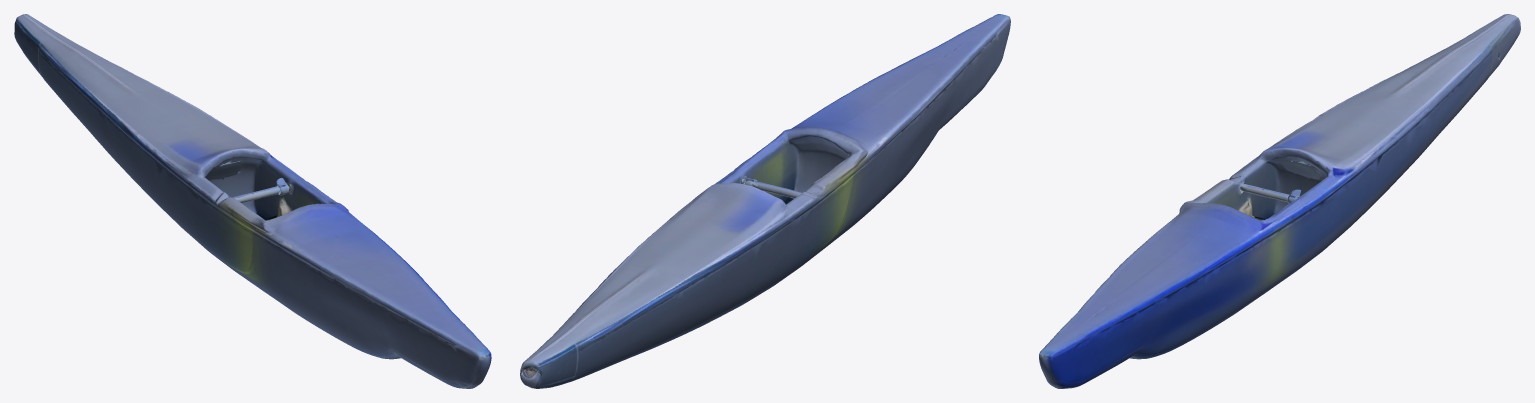
File: scull-blue.glb
The picture shows the model from 3 angles, left to right: view 1: azimuth 30°, elevation 25°; view 2: azimuth 150°, elevation 25°; view 3: azimuth 330°, elevation 25°; orthographic projection. The views are drawn at different scales.
Parts seen in each view (by area): view 1: tripo_node_66413bf1-9c39-44a0-9c3a-851ee78c4d28; view 2: tripo_node_66413bf1-9c39-44a0-9c3a-851ee78c4d28; view 3: tripo_node_66413bf1-9c39-44a0-9c3a-851ee78c4d28.
Boxes of the visible parts, x1=… form: tripo_node_66413bf1-9c39-44a0-9c3a-851ee78c4d28: x1=14, y1=14, x2=491, y2=388; tripo_node_66413bf1-9c39-44a0-9c3a-851ee78c4d28: x1=520, y1=14, x2=1010, y2=388; tripo_node_66413bf1-9c39-44a0-9c3a-851ee78c4d28: x1=1039, y1=14, x2=1520, y2=388.
Size of the model in its own units: 0.1096 by 0.1242 by 0.9836.
Materials: 1 (1 with a texture image).
